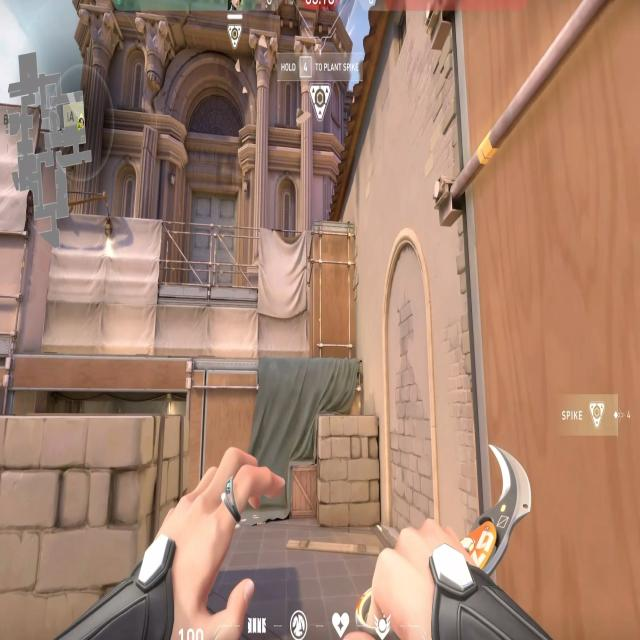A_Heaven_Box: (310, 213, 362, 365)
A_Site_Box: (0, 408, 191, 640)
